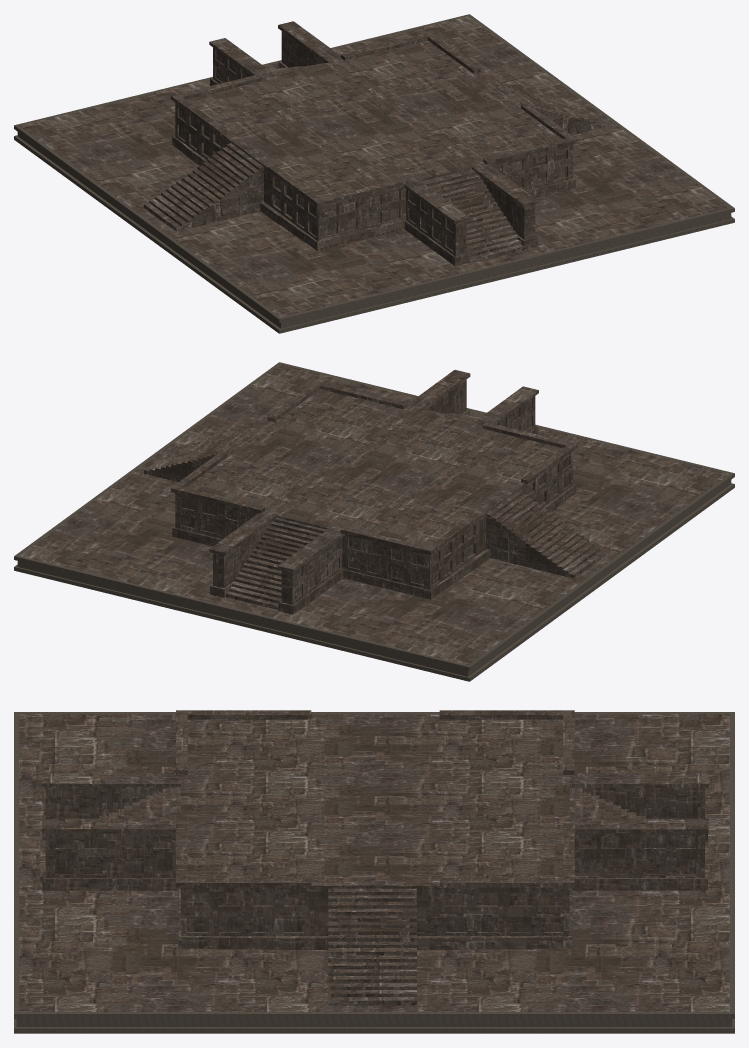
3 views of the same model, one above another, from view 1: azimuth 30°, elevation 25°; view 2: azimuth 150°, elevation 25°; view 3: azimuth 270°, elevation 25° (orthographic). The views are drawn at different scales.
Visible parts, largest first — view 1: floor, platform, stairs7; view 2: floor, platform, stairs7; view 3: platform, floor, stairs7.
Boxes of the visible parts, <box> form: floor: <box>14,14,734,333</box>; platform: <box>170,21,577,266</box>; stairs7: <box>144,63,606,263</box>; floor: <box>14,362,734,681</box>; platform: <box>170,370,577,614</box>; stairs7: <box>144,410,606,609</box>; platform: <box>42,710,708,949</box>; floor: <box>14,712,734,1033</box>; stairs7: <box>40,715,645,1005</box>.
Bounding box in the file's own units: 4.37 × 0.5801 × 4.41.
3 materials, 3 textured.
